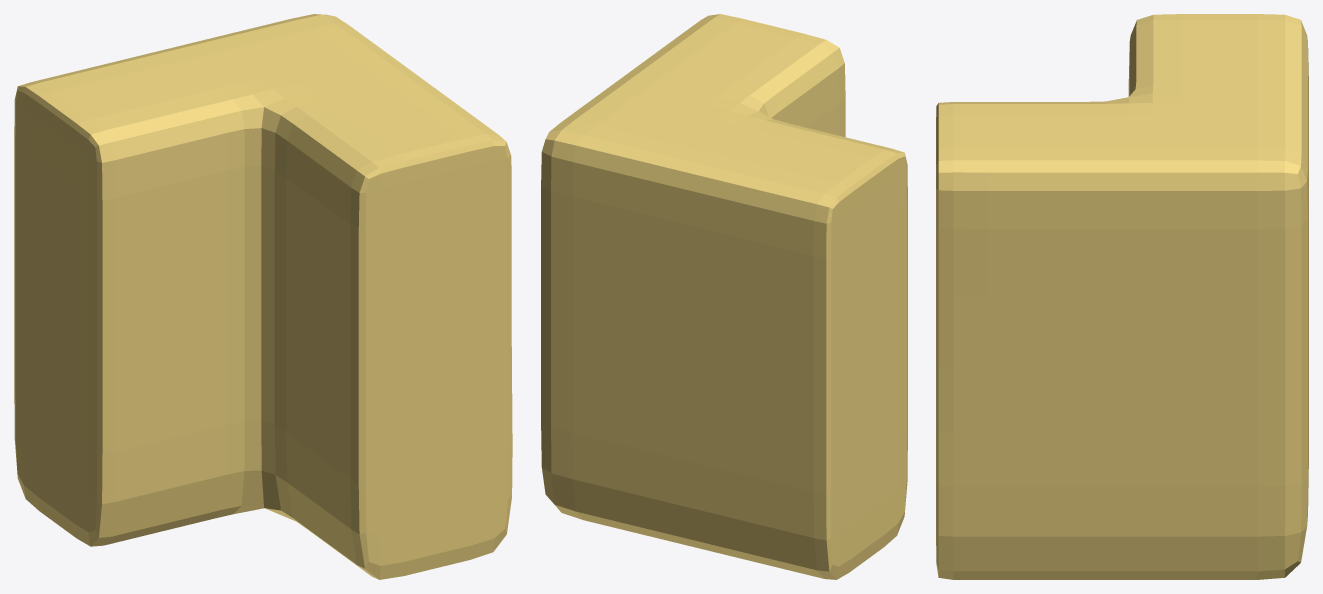
The model's file is wallSummerCorner.glb.
3 views of the same model, side by side, from view 1: azimuth 30°, elevation 25°; view 2: azimuth 150°, elevation 25°; view 3: azimuth 270°, elevation 25° (orthographic). The views are drawn at different scales.
Visible parts, largest first — view 1: Cube.012; view 2: Cube.012; view 3: Cube.012.
Part boxes in pixels (left/top/right/bottom): Cube.012: left=14, top=14, right=512, bottom=579; Cube.012: left=541, top=14, right=907, bottom=579; Cube.012: left=936, top=14, right=1308, bottom=579.
Bounding box in the file's own units: 0.5825 × 0.7298 × 0.5835.
